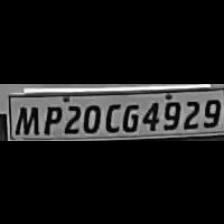0: (81, 101, 101, 133)
2: (61, 100, 81, 134), (180, 97, 200, 129)
4: (139, 98, 159, 130)
9: (200, 96, 222, 127), (160, 97, 180, 129)
C: (103, 98, 120, 132)
G: (119, 99, 139, 131)
M: (14, 102, 38, 134)
P: (40, 102, 60, 134)
